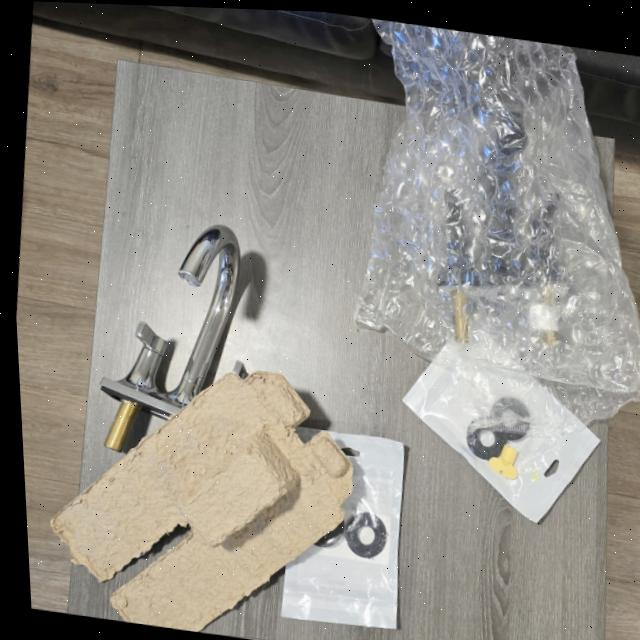10o: (99, 225, 239, 451)
12o: (402, 337, 598, 521)
13o: (280, 431, 403, 627), (294, 424, 321, 442)
9c: (355, 18, 640, 426)
